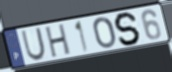1: (74, 18, 89, 54)
6: (140, 8, 163, 41)
H: (45, 22, 72, 60)
O: (92, 15, 118, 49)
S: (113, 11, 142, 47)
U: (20, 26, 48, 62)
